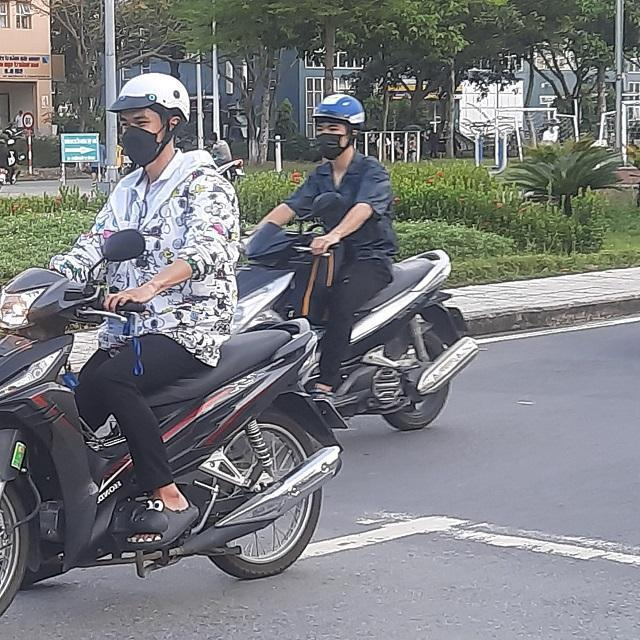Helmet: (106, 71, 190, 165), (309, 94, 367, 156)
